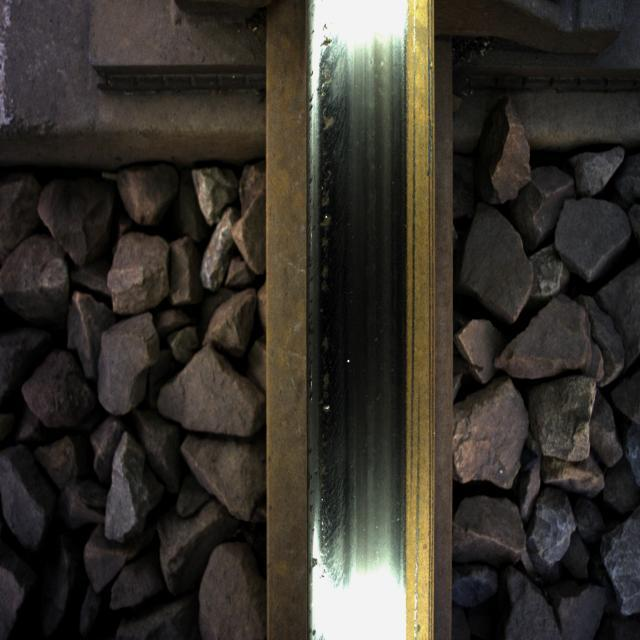crack: (308, 6, 362, 594)
